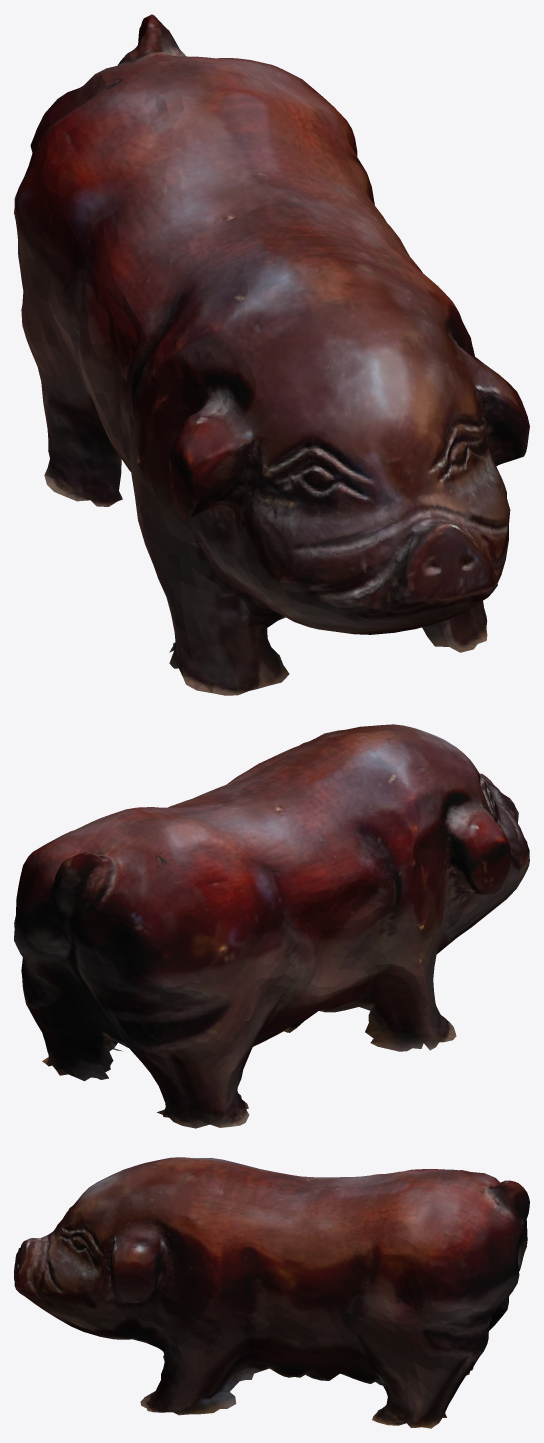
Rendered from pig.glb.
The picture shows the model from 3 angles, top to bottom: view 1: azimuth 30°, elevation 25°; view 2: azimuth 150°, elevation 25°; view 3: azimuth 270°, elevation 25°; orthographic projection. The views are drawn at different scales.
Visible parts, largest first — view 1: Mesh_0; view 2: Mesh_0; view 3: Mesh_0.
Part boxes in pixels (x1,y1,x2,y2): Mesh_0: (14, 14, 529, 695); Mesh_0: (14, 724, 529, 1128); Mesh_0: (14, 1157, 529, 1428).
Size of the model in its own units: 0.7695 by 0.7098 by 1.43.
1 material, 1 textured.
